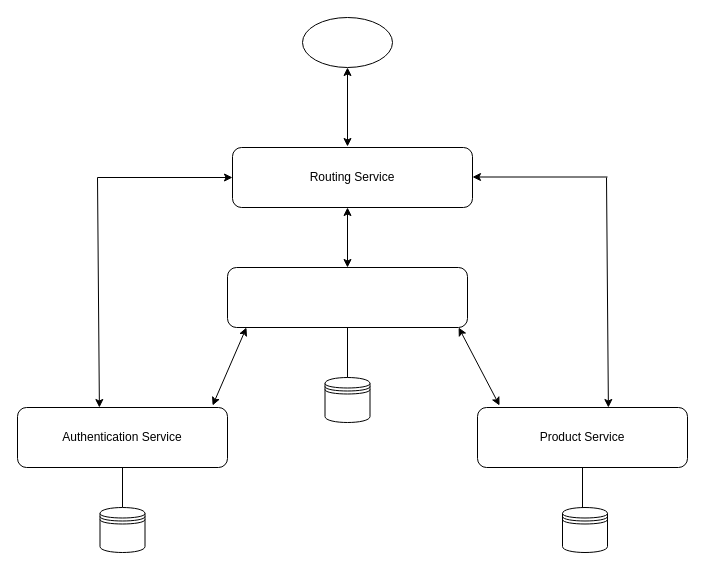
Some shapes in this 705 by 570 pixel diagram are drawn without their labels. Here are the shapes that lost their labels. From the top down, the box of each, then its label:
(302, 16, 392, 68): Web UI
(226, 266, 468, 328): Reservation Service
